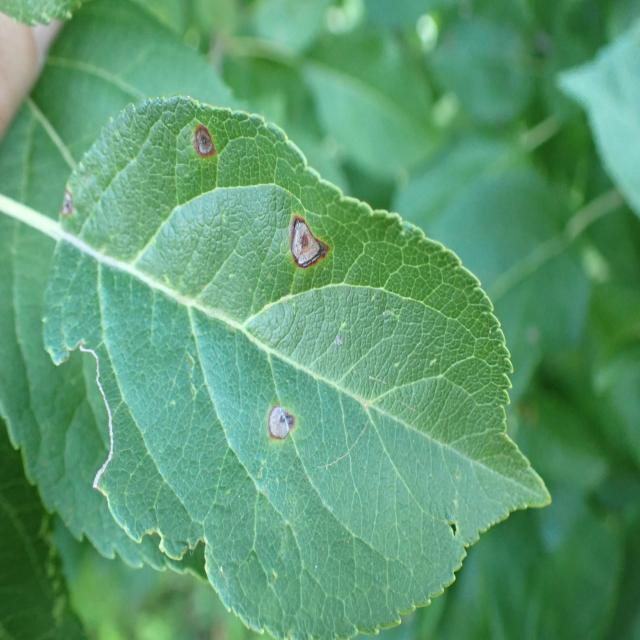Black Rot: (247, 338, 305, 462), (268, 185, 328, 286), (180, 109, 241, 205), (60, 166, 91, 229)
